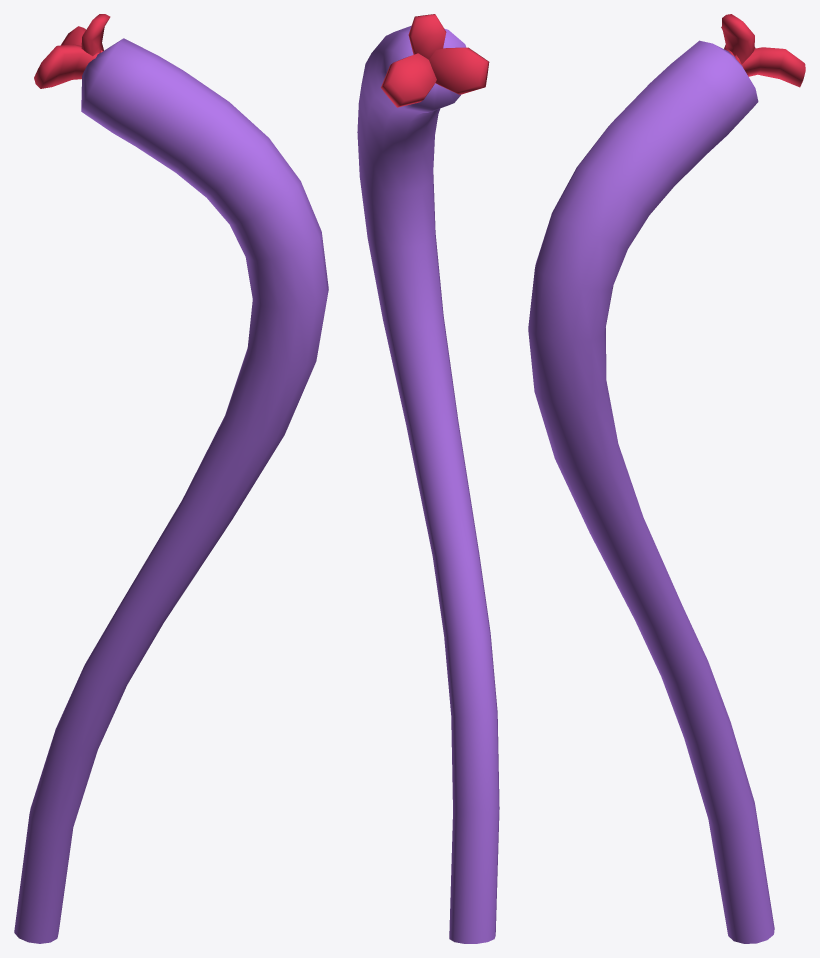
Rendered from M_Prop_WigglyCoral1.fbx.
The picture shows the model from 3 angles, left to right: view 1: azimuth 30°, elevation 25°; view 2: azimuth 150°, elevation 25°; view 3: azimuth 270°, elevation 25°; orthographic projection. The views are drawn at different scales.
Parts seen in each view (by area): view 1: BézierCurve.001; view 2: BézierCurve.001; view 3: BézierCurve.001.
Part boxes in pixels (x1=…): BézierCurve.001: x1=14, y1=14, x2=328, y2=943; BézierCurve.001: x1=357, y1=14, x2=499, y2=943; BézierCurve.001: x1=528, y1=14, x2=805, y2=943.
Size of the model in its own units: 385 by 409 by 1537.
